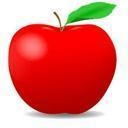apple: (7, 24, 118, 114)
